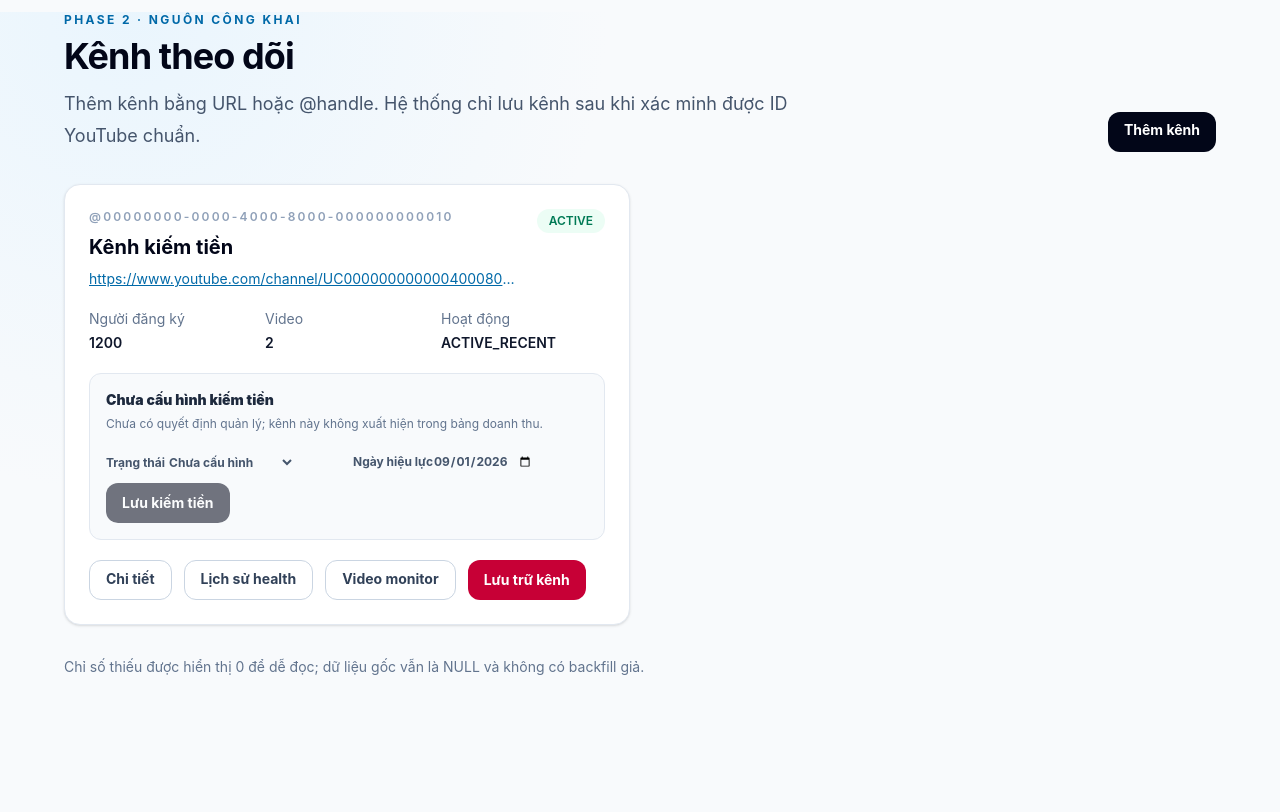
ChannelsScreen subscriber availability › lets ADMIN record a manual RPM with an effective date and renders the saved evidence
Select "Đã bật kiếm tiền" in the dropdown named "Trạng thái kiếm tiền của Kênh kiếm tiền" at (230, 462), box [165,454,295,471]
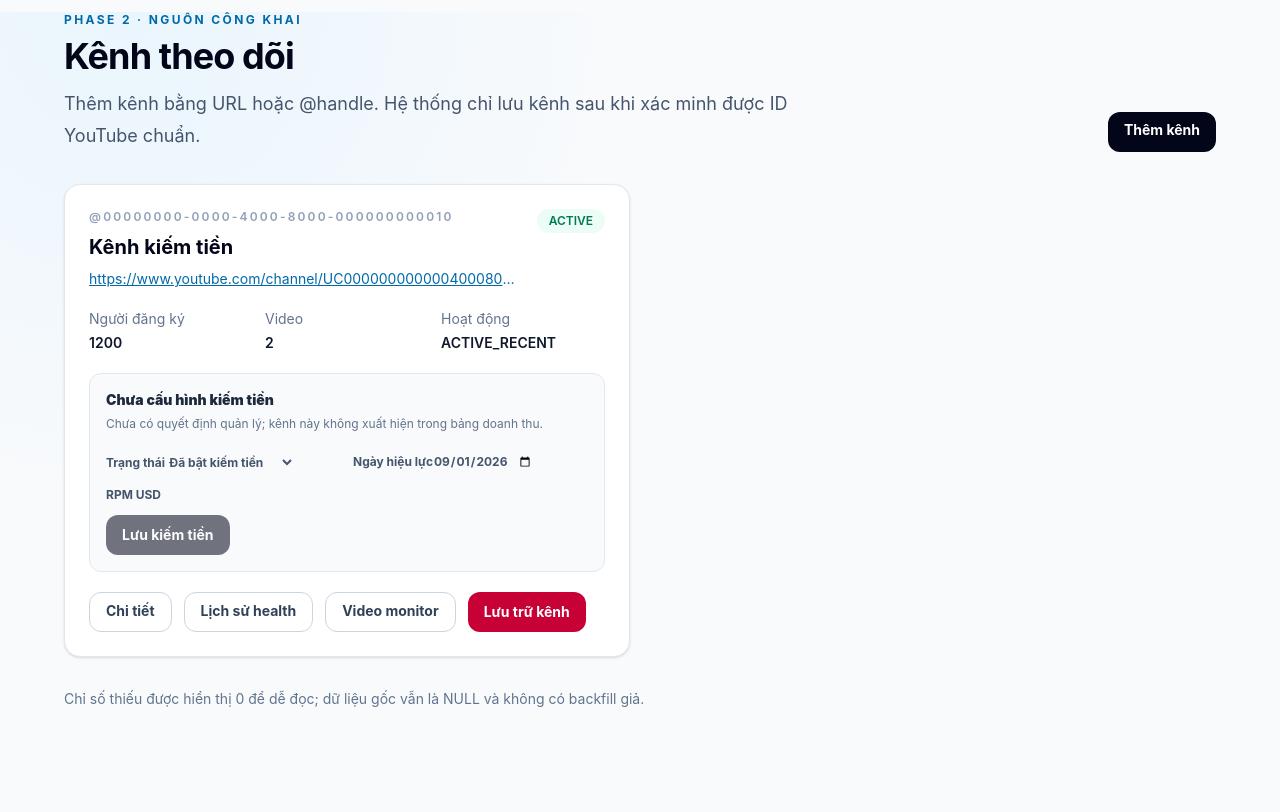
Type "1.25" into the number field labelled "RPM USD".
click(257, 495); type("1.25")  # box [161,487,353,503]
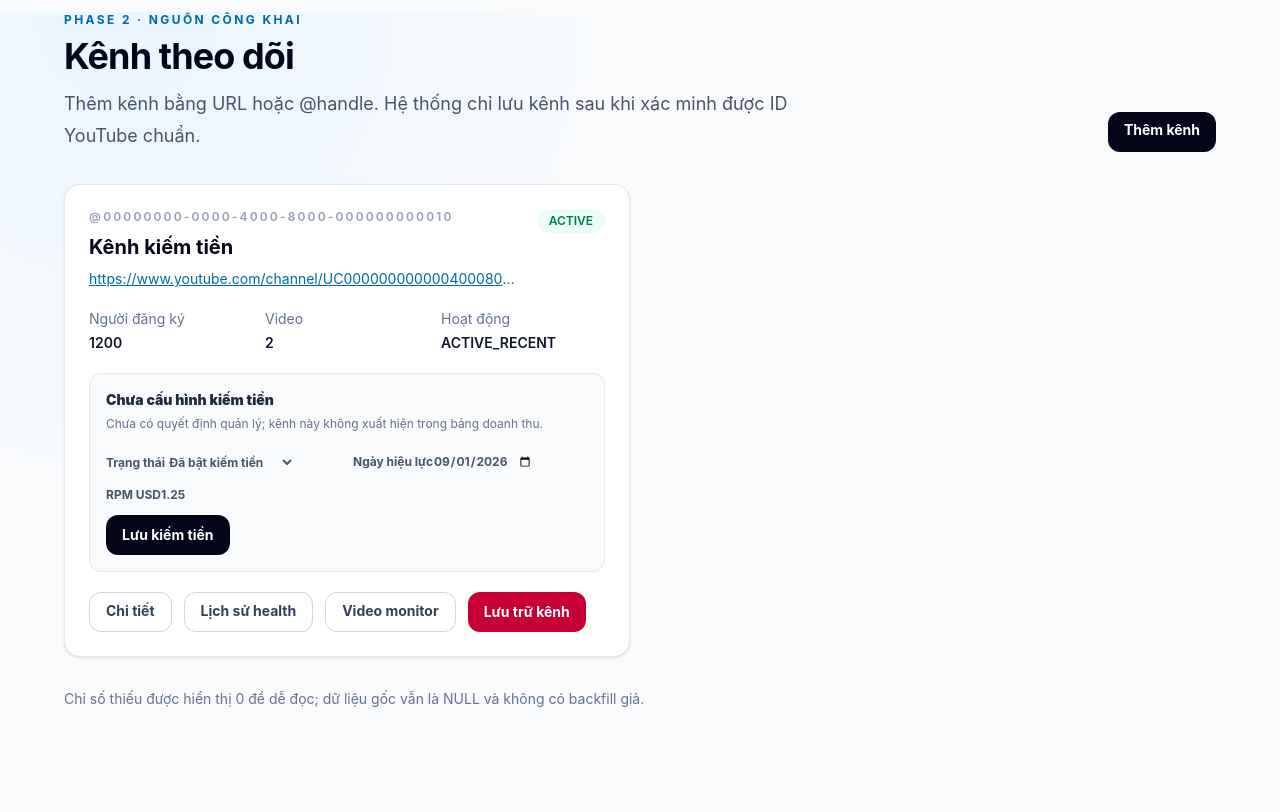
Type "2026-08-27" into the date field labelled "Ngày hiệu lực".
click(483, 462); type("2026-08-27")  # box [433,454,533,470]
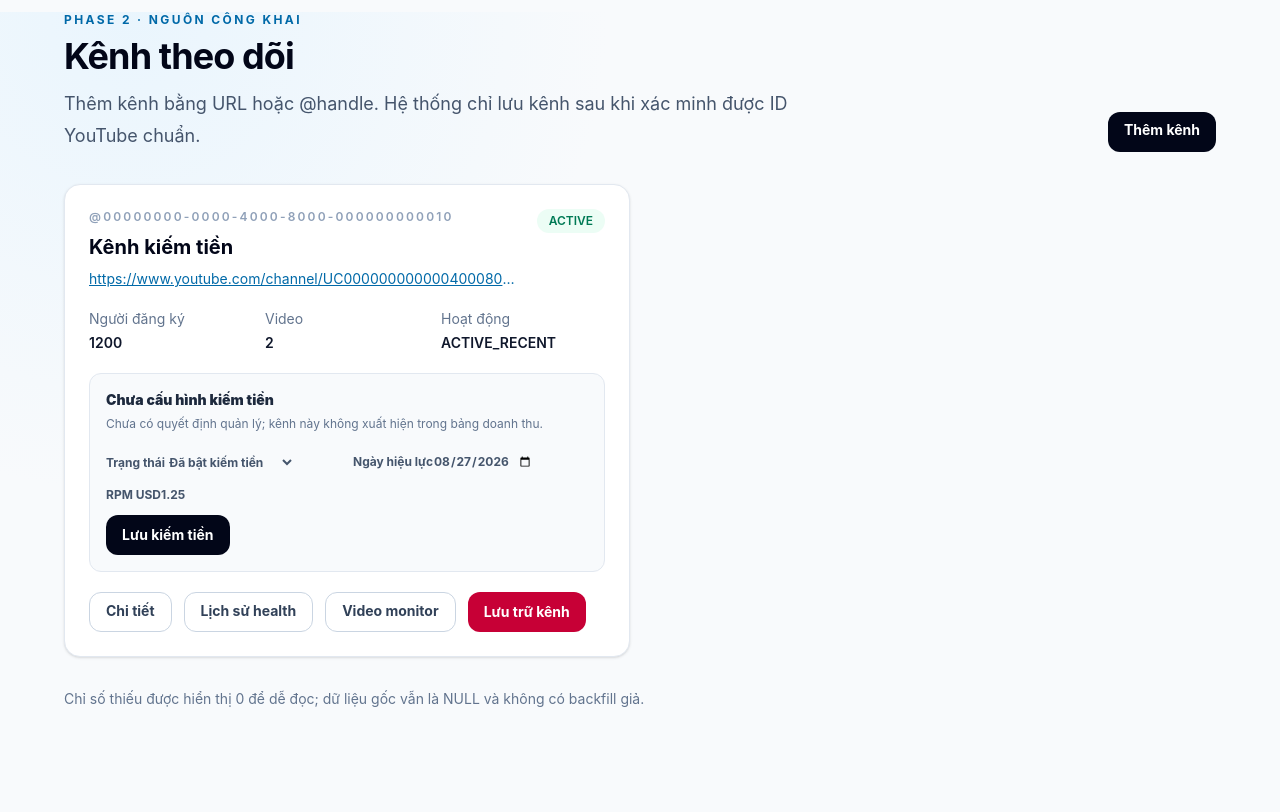
Click the button "Lưu kiếm tiền".
click(168, 535)  # box [106,515,230,555]
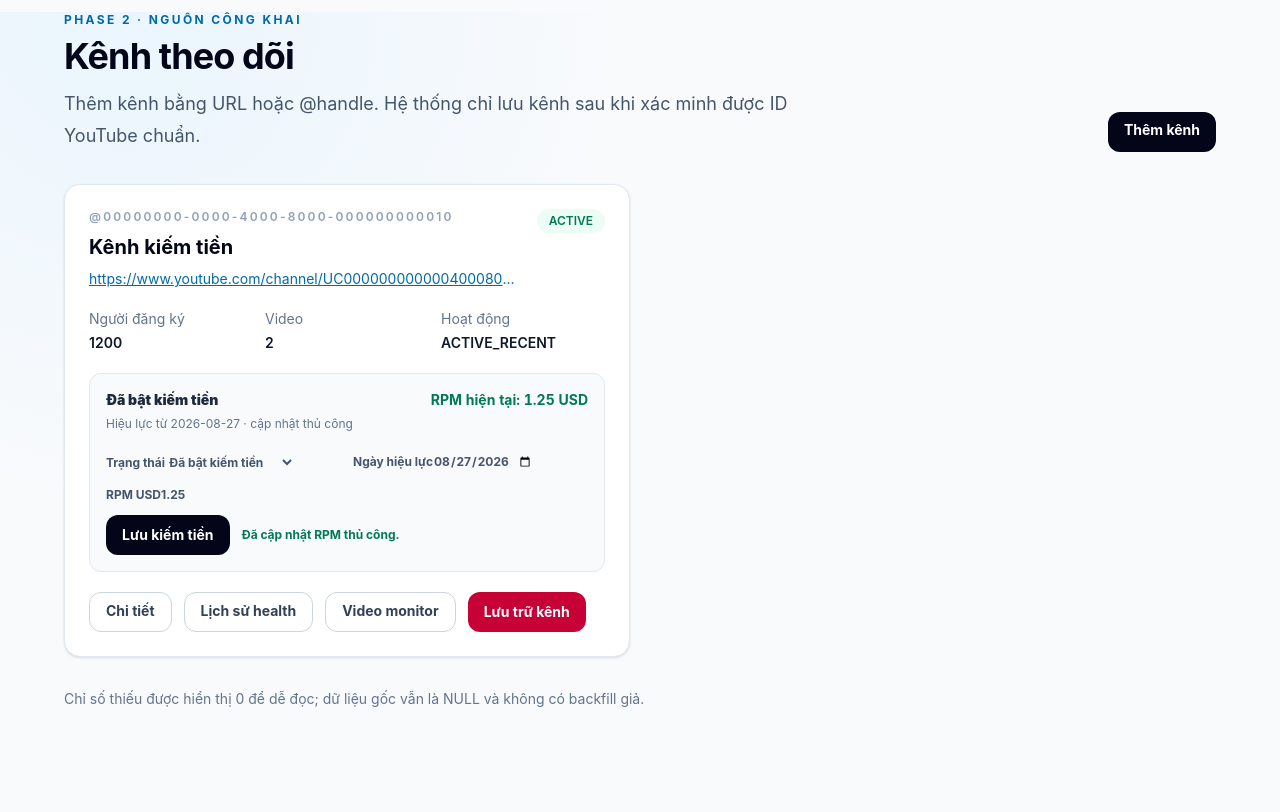
Check: the text "Đã cập nhật RPM thủ công." is shown, box [242,527,400,543]
Check: the text "RPM hiện tại: 1.25 USD" is shown, box [431,390,588,410]
